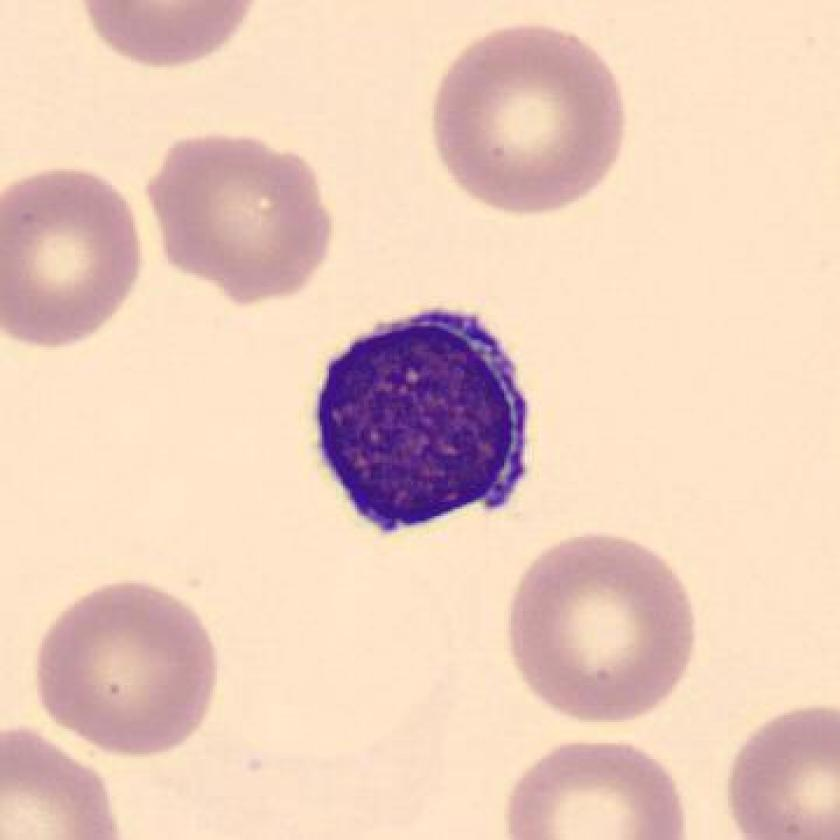lymphocyte: (295, 295, 552, 552)
